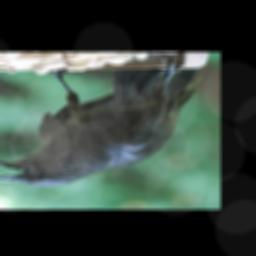Crow: (0, 55, 203, 187)
